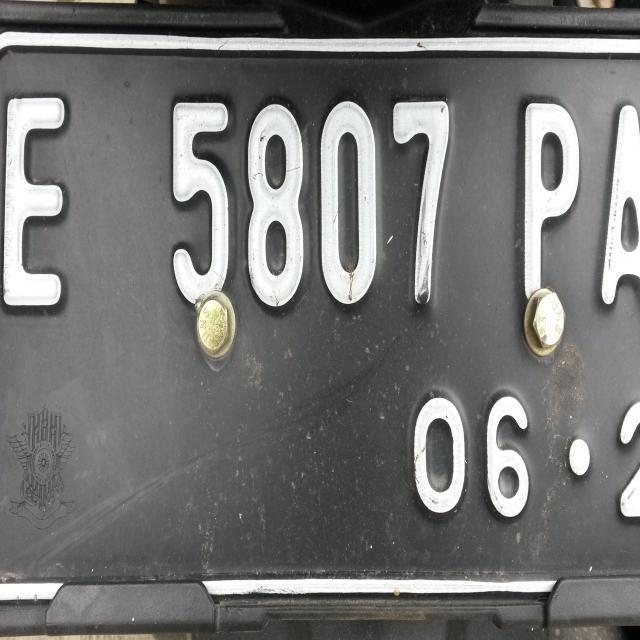0: (312, 82, 386, 338)
5: (162, 78, 237, 316)
7: (383, 78, 460, 321)
8: (241, 85, 312, 321)
A: (594, 88, 640, 314)
E: (0, 69, 78, 334)
P: (514, 80, 582, 306)
